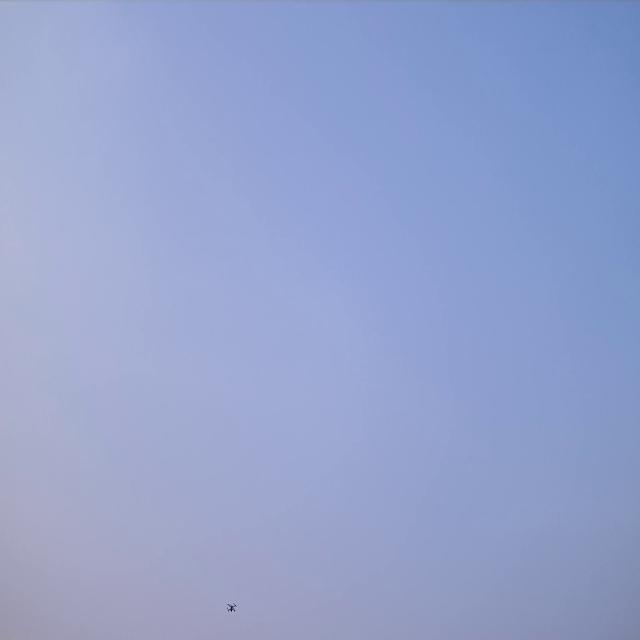UAV: (226, 602, 238, 616)
